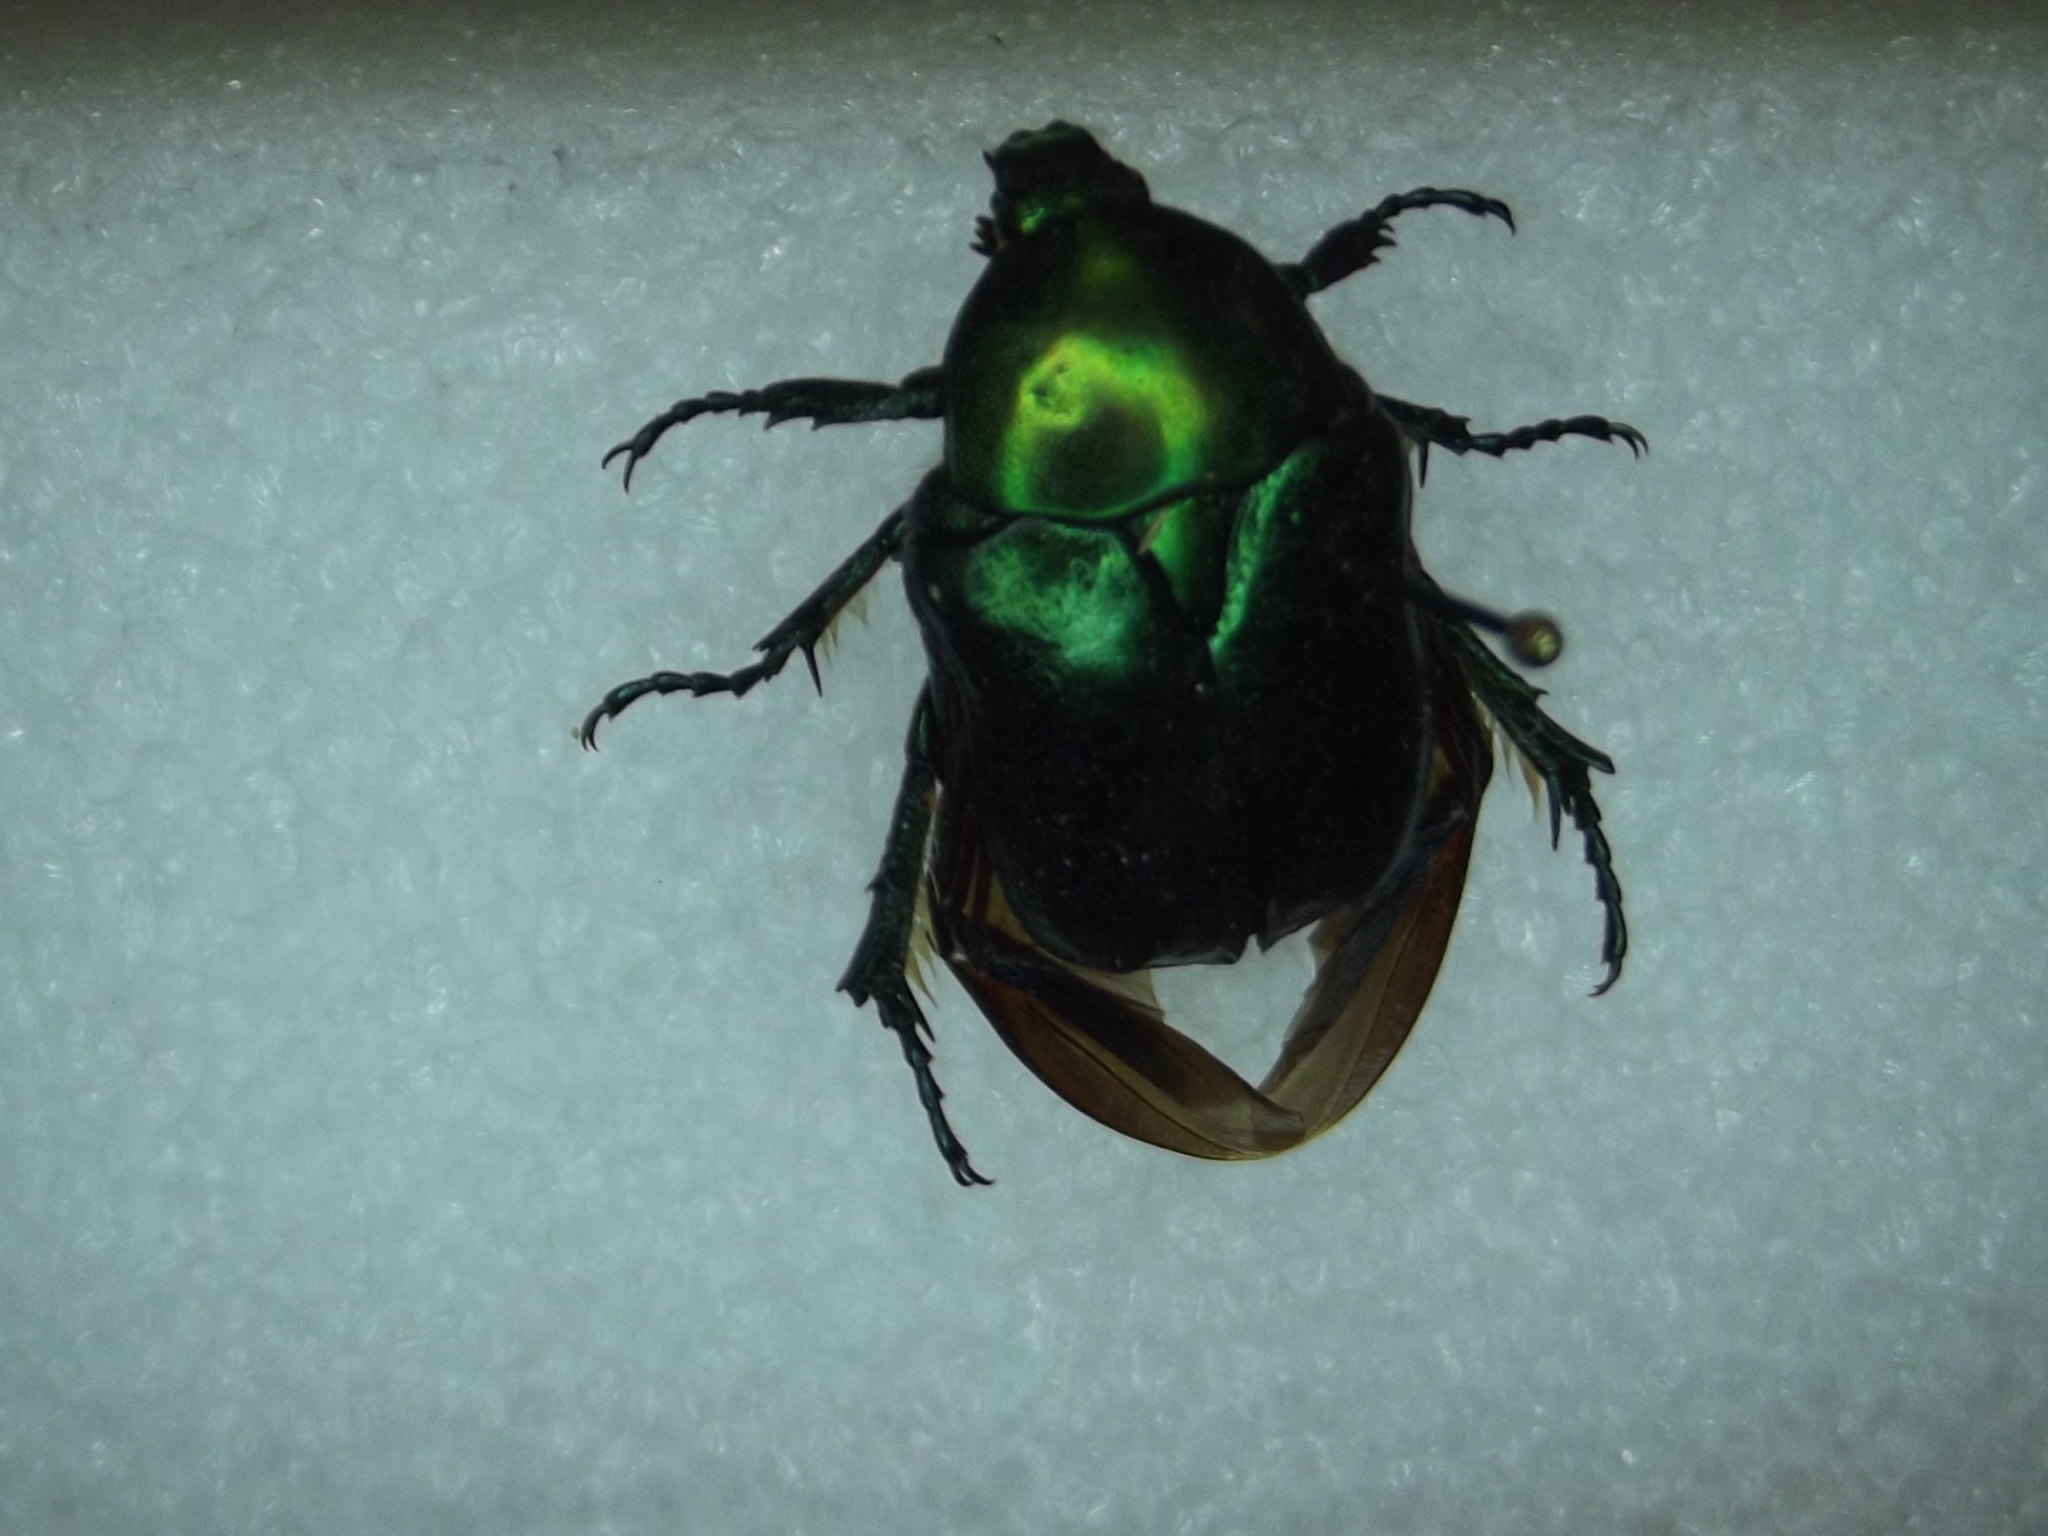Protaetia_angustata_angustata: (529, 97, 1680, 1215)
